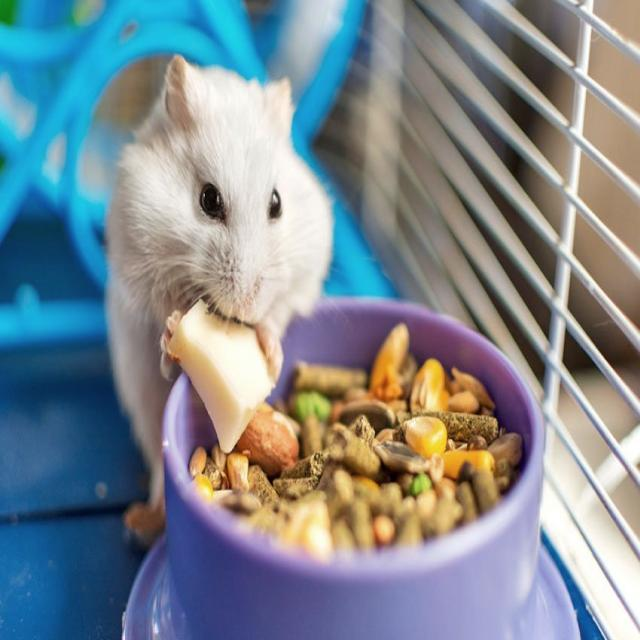hamster: (106, 55, 333, 537)
